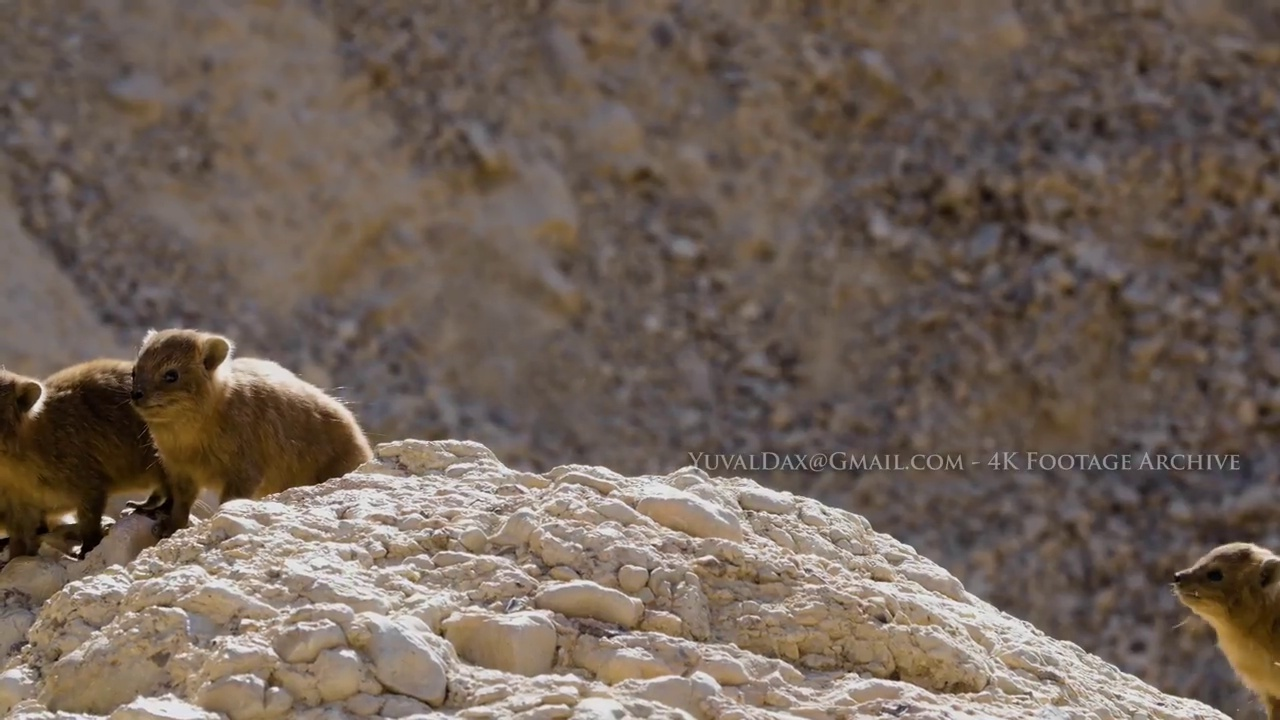Rock Hyrex: (128, 328, 376, 546), (1, 364, 158, 561), (1174, 537, 1279, 720)
